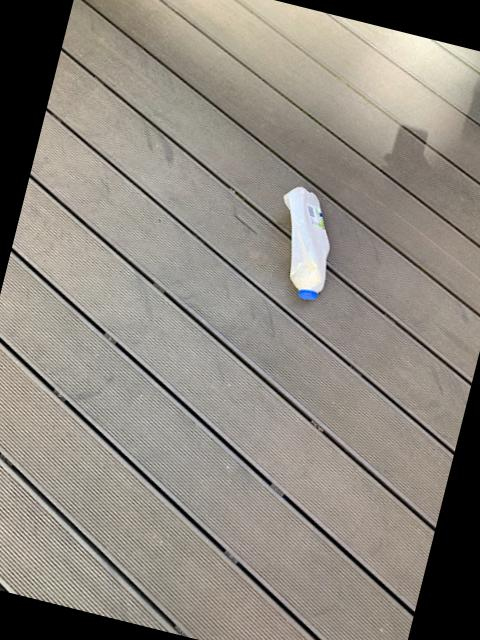plastic: (282, 184, 327, 297)
